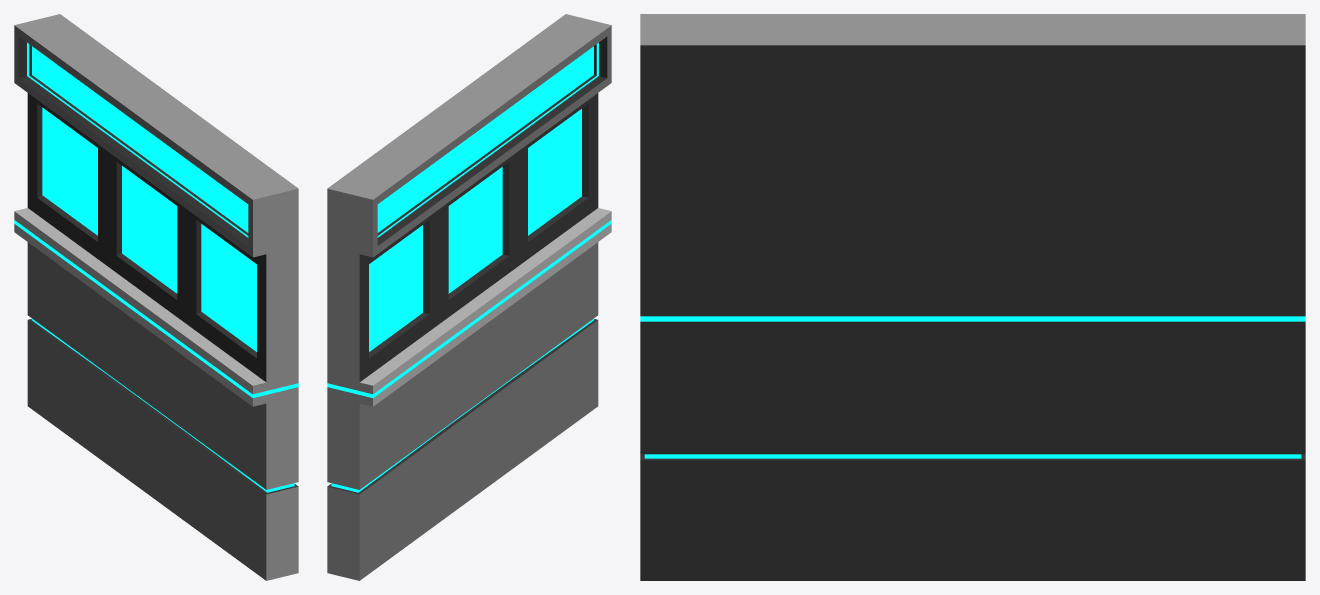
File: SM_Roof_Front.fbx
3 views of the same model, side by side, from view 1: azimuth 30°, elevation 25°; view 2: azimuth 150°, elevation 25°; view 3: azimuth 270°, elevation 25° (orthographic). The views are drawn at different scales.
Visible parts, largest first — view 1: SM_Roof_Front; view 2: SM_Roof_Front; view 3: SM_Roof_Front.
Part boxes in pixels (left/top/right/bottom): SM_Roof_Front: left=14, top=14, right=298, bottom=580; SM_Roof_Front: left=327, top=14, right=611, bottom=580; SM_Roof_Front: left=640, top=14, right=1305, bottom=580.
Bounding box in the file's own units: 100 × 800 × 900.
